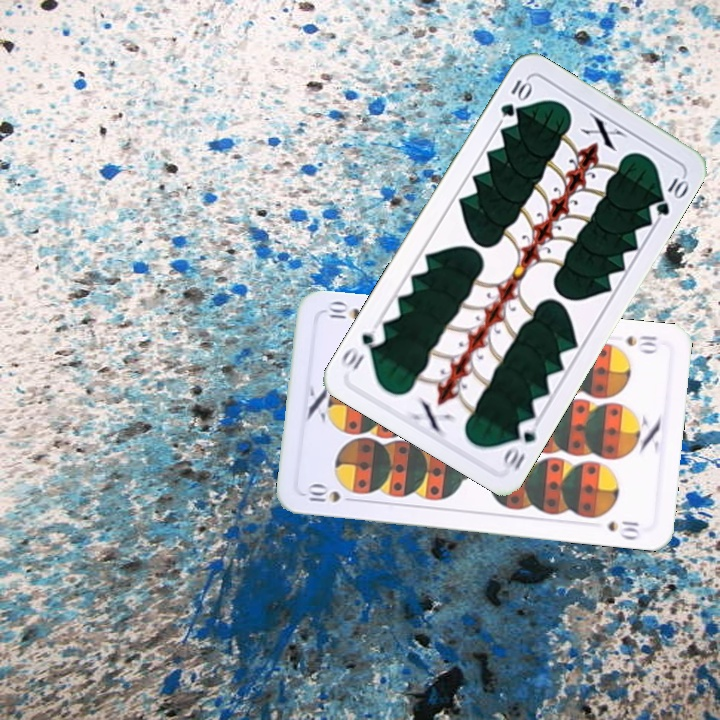G10: (499, 414, 542, 474), (496, 75, 535, 120)
S10: (300, 482, 359, 505), (622, 331, 660, 356)
